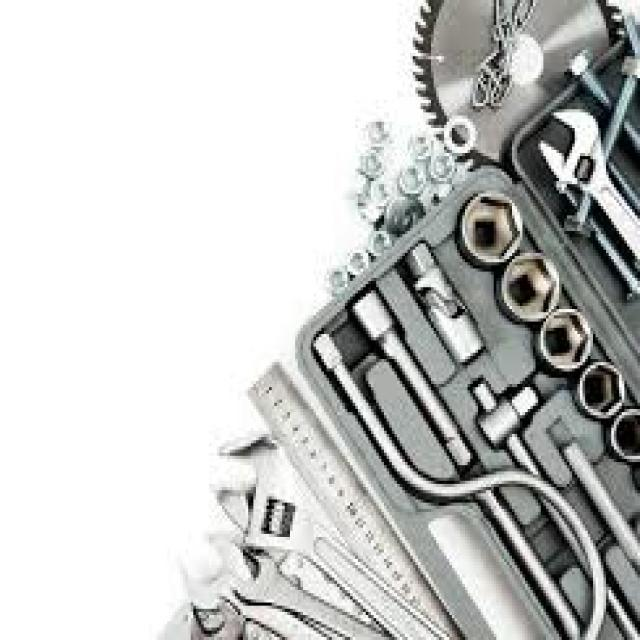wrench: (200, 418, 450, 640), (535, 100, 640, 272), (230, 540, 400, 640), (172, 525, 292, 640)
